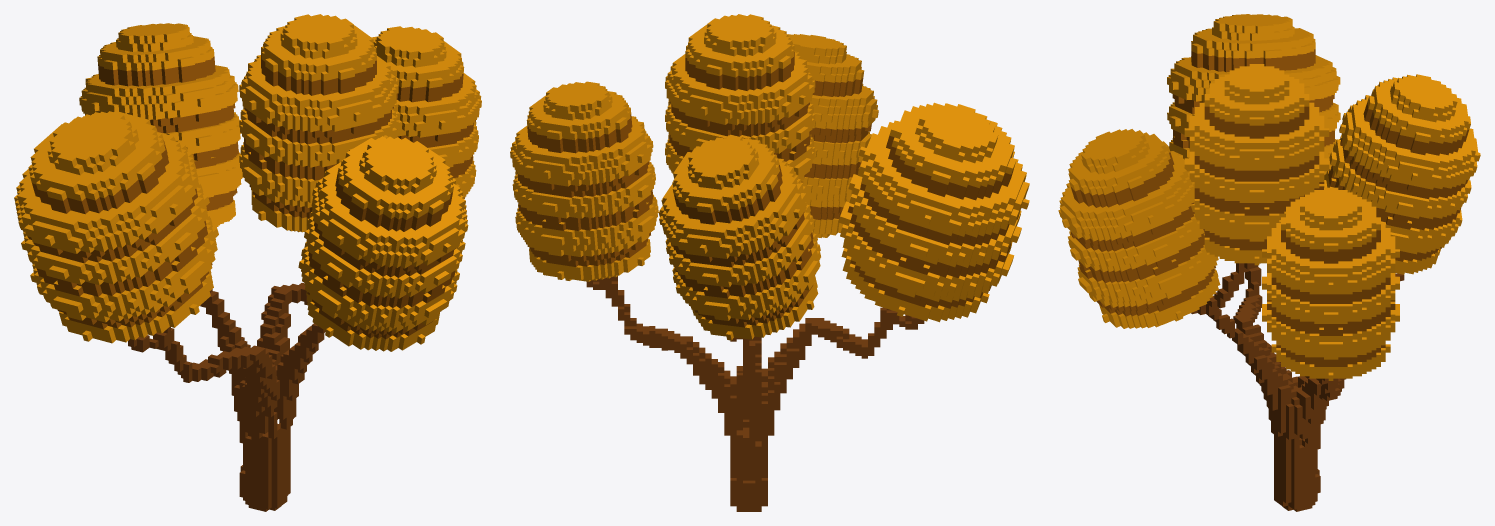
File: медовое дерево.fbx
The picture shows the model from 3 angles, left to right: view 1: azimuth 30°, elevation 25°; view 2: azimuth 150°, elevation 25°; view 3: azimuth 270°, elevation 25°; orthographic projection. The views are drawn at different scales.
Visible parts, largest first — view 1: Cylinder; view 2: Cylinder; view 3: Cylinder.
Boxes of the visible parts, x1,y1,x2,y2 form: Cylinder: (14,14,481,511); Cylinder: (510,14,1029,511); Cylinder: (1058,14,1480,511).
Bounding box in the file's own units: 329 × 313 × 271.
